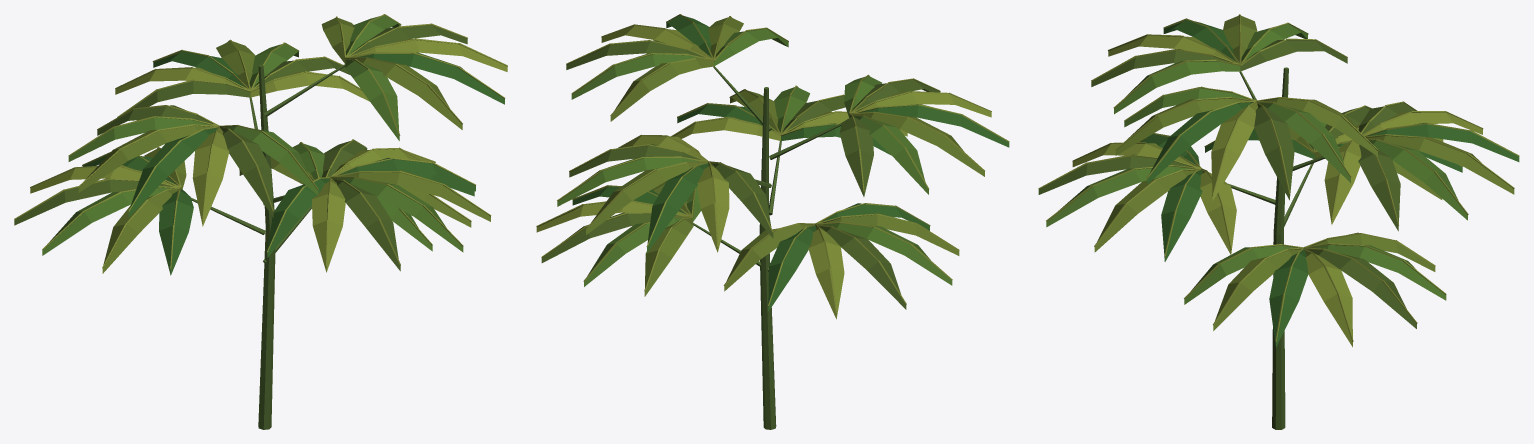
File: mandioca_maduro.glb
3 renders of one model, left to right at view 1: azimuth 30°, elevation 25°; view 2: azimuth 150°, elevation 25°; view 3: azimuth 270°, elevation 25°, orthographic. The views are drawn at different scales.
Parts seen in each view (by area): view 1: mandioca_maduro.015; view 2: mandioca_maduro.015; view 3: mandioca_maduro.015.
Boxes of the visible parts, left/top/right/bottom form: mandioca_maduro.015: left=14, top=14, right=507, bottom=429; mandioca_maduro.015: left=536, top=14, right=1009, bottom=429; mandioca_maduro.015: left=1038, top=14, right=1519, bottom=429.
Size of the model in its own units: 1.27 by 1.08 by 1.26.
